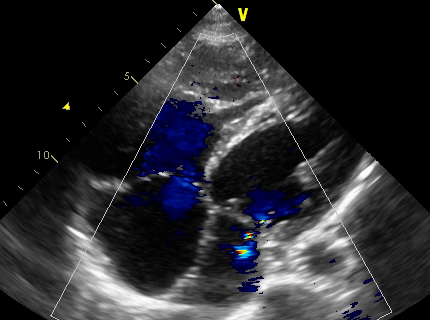TR: (157, 162, 221, 221)
